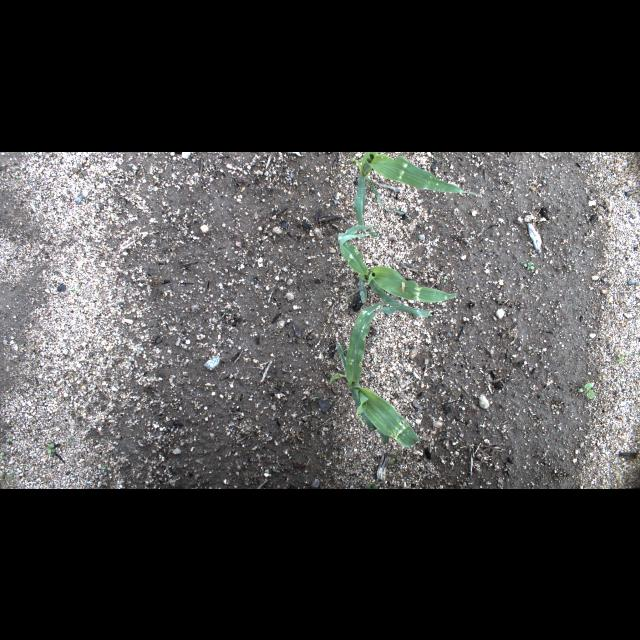crop: (329, 300, 431, 448), (338, 223, 456, 303), (352, 151, 480, 223)
weed: (616, 353, 638, 365), (388, 448, 402, 464), (579, 384, 595, 398), (521, 260, 537, 272), (46, 442, 58, 454), (526, 347, 540, 357), (365, 482, 379, 488), (498, 323, 506, 332), (99, 464, 111, 470), (310, 396, 320, 402), (30, 152, 42, 156), (489, 415, 496, 421), (72, 286, 78, 292), (568, 263, 572, 271), (0, 170, 4, 178), (14, 174, 22, 178), (273, 469, 281, 473), (70, 436, 74, 442), (221, 312, 225, 318), (394, 392, 398, 398), (430, 154, 436, 158), (442, 276, 446, 282), (305, 294, 309, 298), (6, 440, 12, 442), (1, 452, 3, 458)
